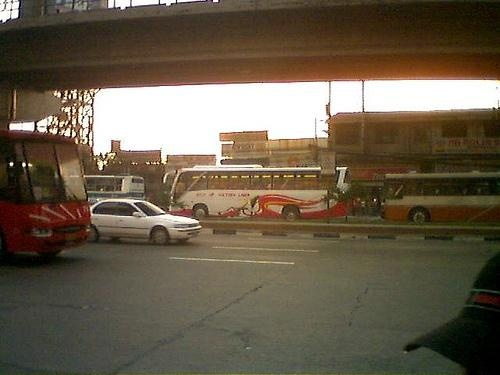bus: (1, 132, 91, 263), (168, 166, 353, 223), (385, 172, 500, 226), (88, 175, 144, 202)
car: (89, 201, 201, 245)
